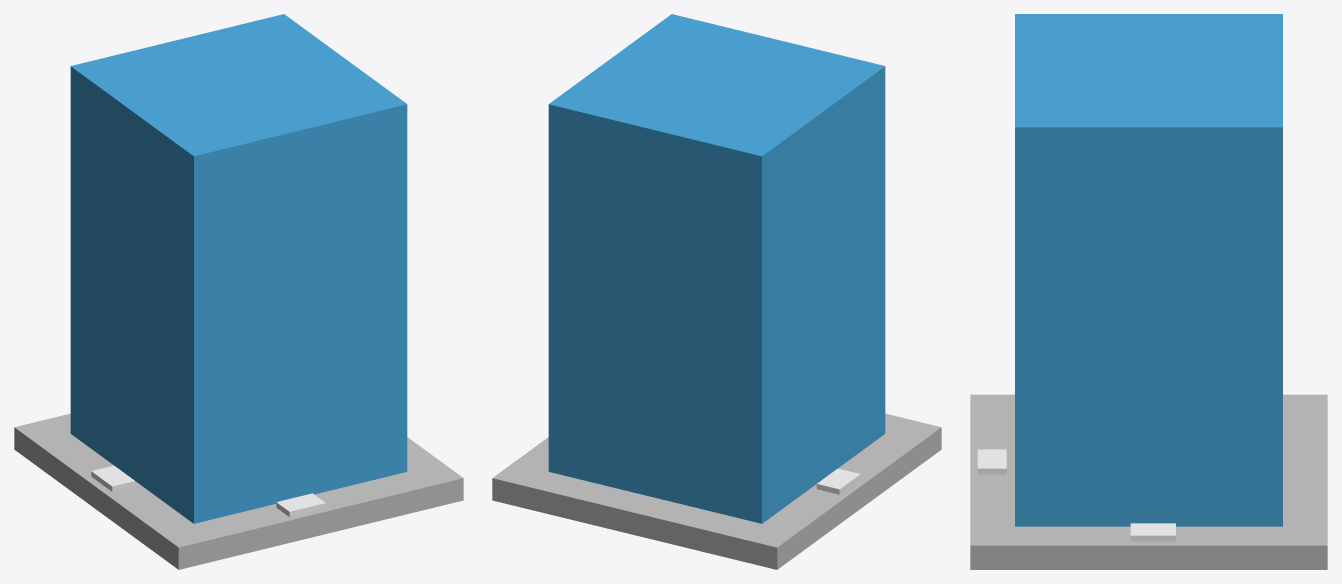
File: building3 1.fbx
3 views of the same model, side by side, from view 1: azimuth 30°, elevation 25°; view 2: azimuth 150°, elevation 25°; view 3: azimuth 270°, elevation 25° (orthographic). The views are drawn at different scales.
Parts seen in each view (by area): view 1: Empty_Tile.012, Empty_Tile.011, Empty_Tile.010, Empty_Tile.013; view 2: Empty_Tile.012, Empty_Tile.011, Empty_Tile.013; view 3: Empty_Tile.012, Empty_Tile.011, Empty_Tile.015, Empty_Tile.010.
Part boxes in pixels (x1,y1,x2,y2): Empty_Tile.012: [70, 14, 407, 523]; Empty_Tile.011: [14, 413, 463, 569]; Empty_Tile.010: [276, 493, 325, 517]; Empty_Tile.013: [91, 465, 135, 491]; Empty_Tile.012: [548, 14, 885, 523]; Empty_Tile.011: [492, 413, 941, 569]; Empty_Tile.013: [816, 468, 860, 494]; Empty_Tile.012: [1015, 14, 1282, 526]; Empty_Tile.011: [970, 394, 1327, 569]; Empty_Tile.015: [1130, 523, 1175, 541]; Empty_Tile.010: [977, 449, 1006, 474].
Size of the model in its own units: 800 by 1046 by 800.
